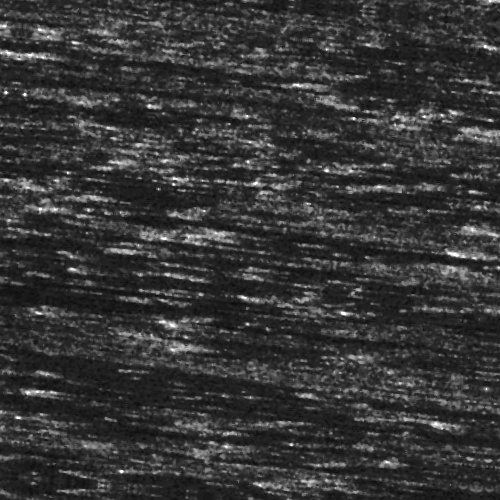object: (211, 468, 346, 489), (361, 161, 444, 180), (0, 68, 107, 81), (373, 397, 500, 406), (0, 222, 103, 231), (427, 222, 500, 233), (422, 101, 500, 110), (274, 71, 347, 78), (107, 259, 200, 264), (317, 383, 380, 388), (117, 339, 158, 344)
shadow: (279, 468, 500, 489), (0, 307, 224, 322), (28, 68, 256, 81), (46, 222, 348, 231), (403, 161, 500, 180), (311, 71, 500, 78), (0, 0, 167, 7), (0, 485, 85, 498), (0, 98, 218, 103), (154, 259, 308, 264), (349, 383, 500, 388), (440, 397, 500, 406), (138, 339, 212, 344)
